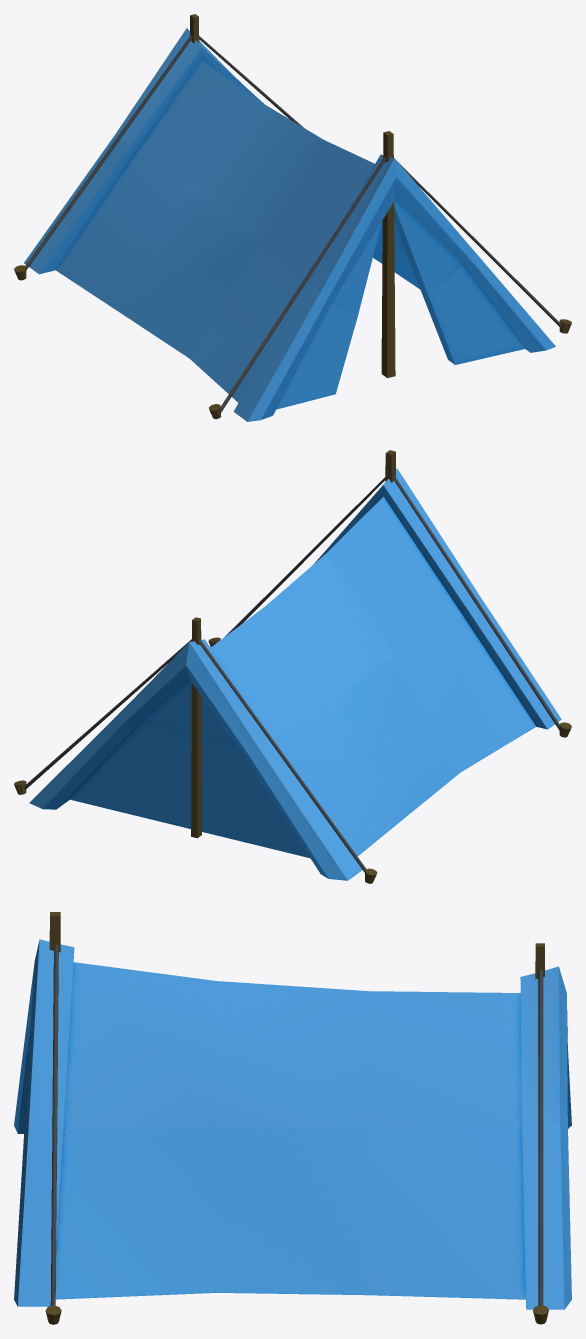
File: Base 1 Gun.fbx
3 views of the same model, one above another, from view 1: azimuth 30°, elevation 25°; view 2: azimuth 150°, elevation 25°; view 3: azimuth 270°, elevation 25° (orthographic). The views are drawn at different scales.
Parts seen in each view (by area): view 1: Base_1; view 2: Base_1; view 3: Base_1.
Part boxes in pixels (x1,y1,x2,y2): Base_1: (14, 14, 571, 421); Base_1: (14, 450, 571, 883); Base_1: (14, 912, 571, 1324).
Size of the model in its own units: 408 by 265 by 435.
1 material, 1 textured.
